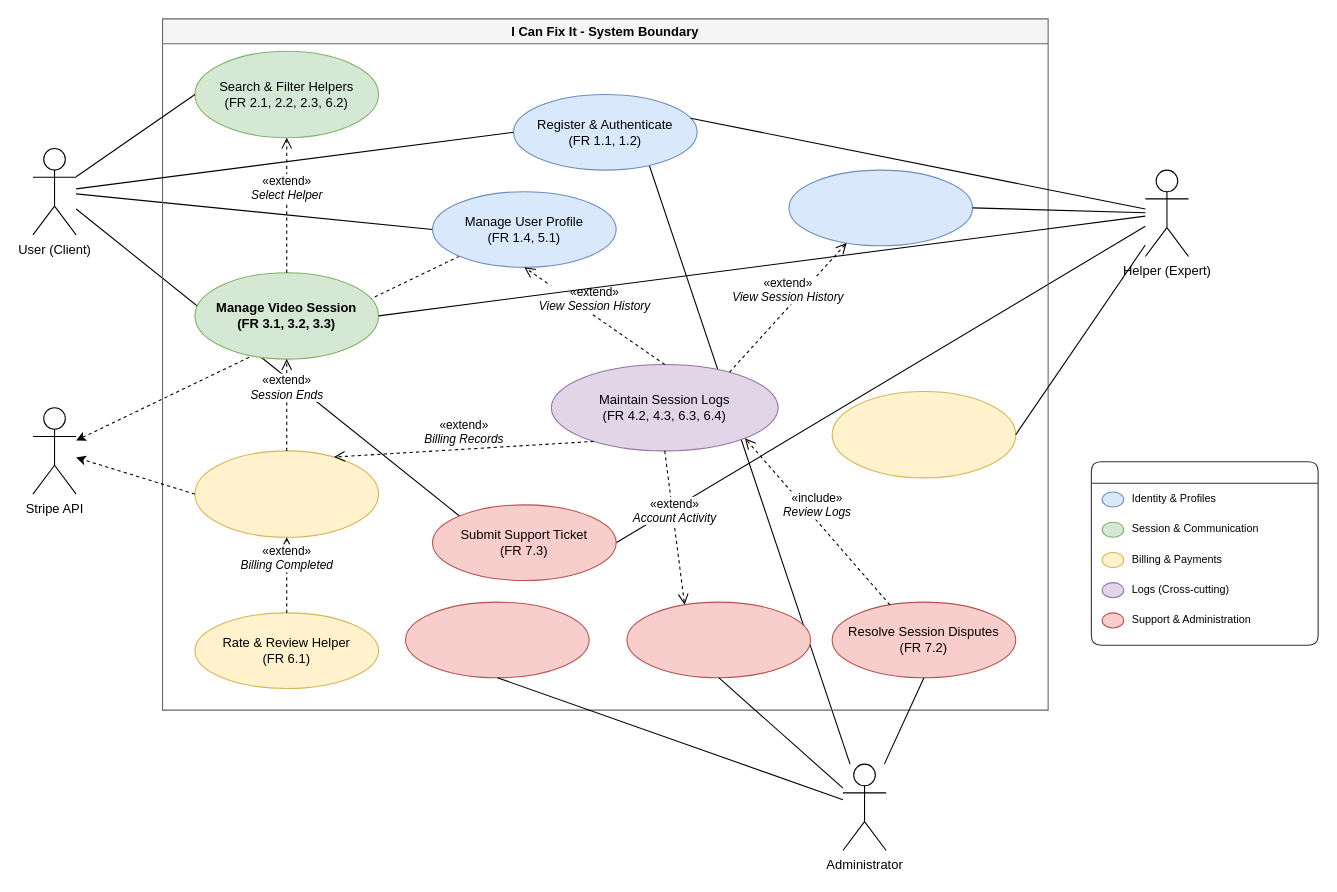
Some shapes in this 1337 by 892 pixel diagram are drawn without their labels. Each missing label, with the box of its shape:
Legend: (1090, 461, 1318, 645)
Manage Helper Profile (FR 1.3): (788, 169, 973, 246)
Manage Support Tickets (FR 7.3): (404, 601, 589, 678)
Moderate User Accounts (FR 7.1): (626, 601, 811, 678)
Process Automatic Billing (FR 4.1, 5.2, 5.3): (194, 450, 379, 537)
View Earnings (FR 5.2): (831, 390, 1016, 478)
